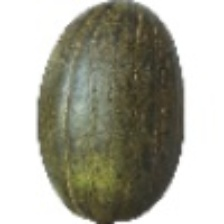honeydew: (57, 23, 199, 198)
